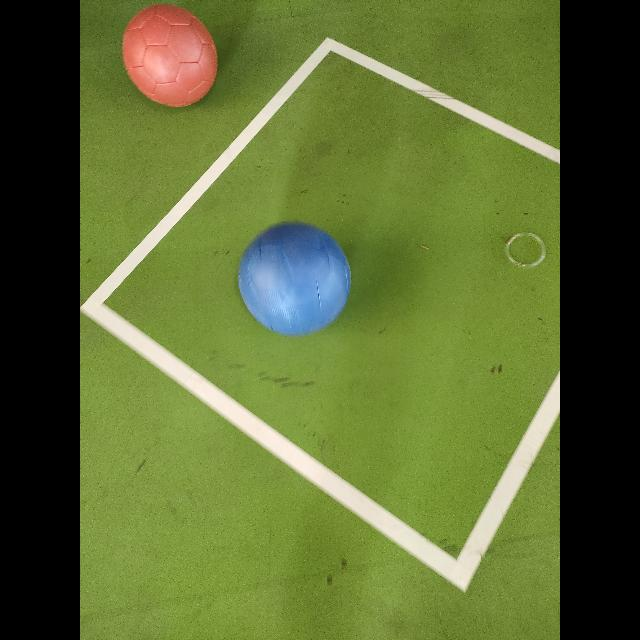B: (239, 223, 351, 335)
R: (123, 4, 217, 106)
